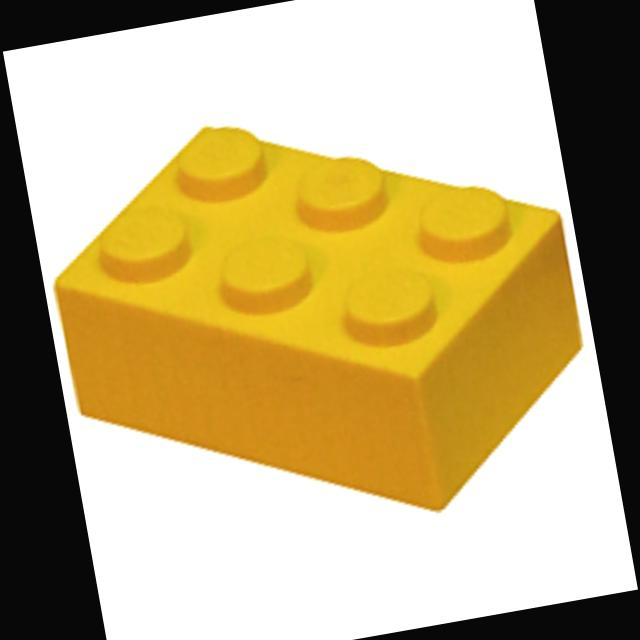2x3: (55, 127, 578, 506)
